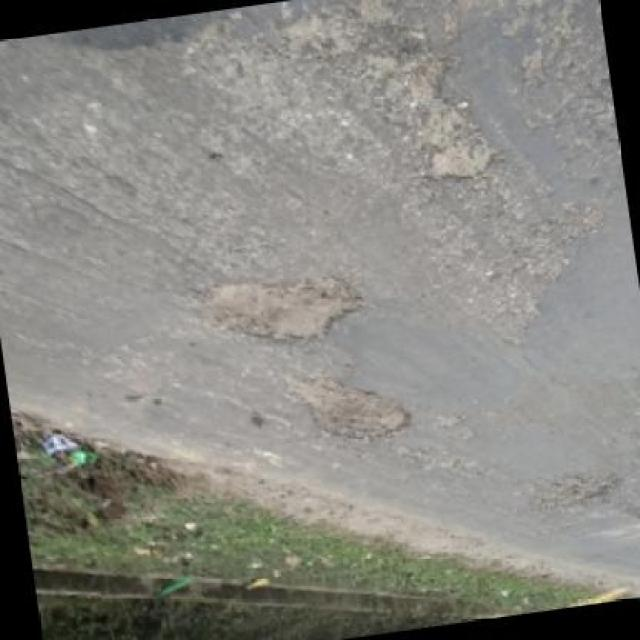pothole: (202, 261, 369, 361), (290, 361, 418, 454), (422, 128, 504, 192), (534, 466, 620, 516), (623, 494, 639, 531)
